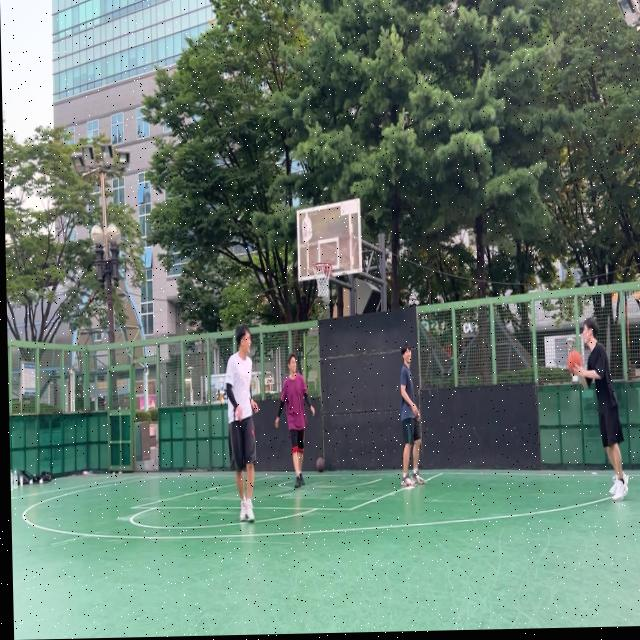basketball: (567, 350, 582, 376), (316, 457, 326, 473)
hoop: (312, 262, 332, 299)
